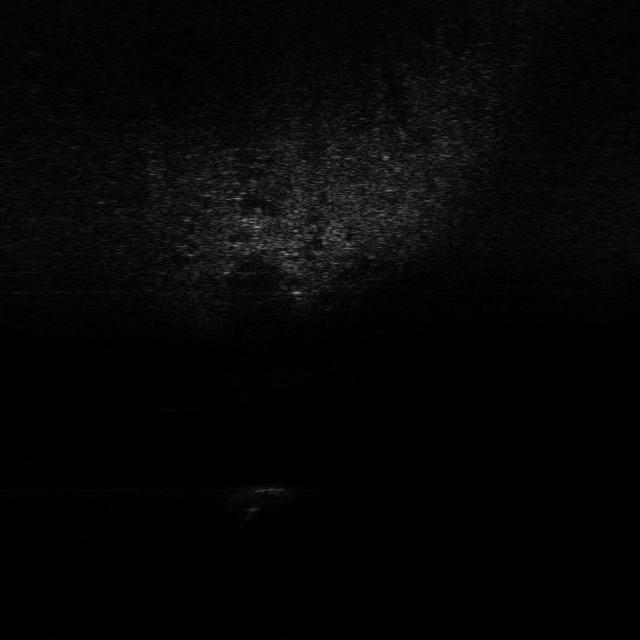circle cage: (227, 480, 311, 514)
